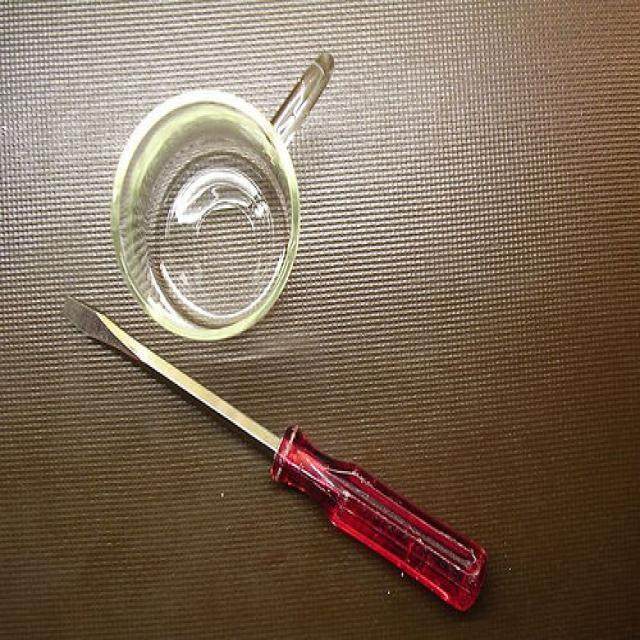screwdriver: (37, 295, 492, 628)
